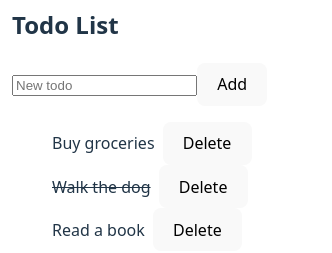
Test: TodoList component › can delete a todo
Click the button with aria-label "delete-1".
click(207, 143)  # box top-left (162, 122), bottom-right (252, 165)
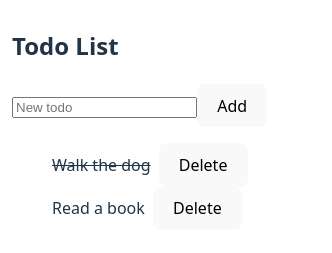
Expected: the text "Buy groceries" is gone
